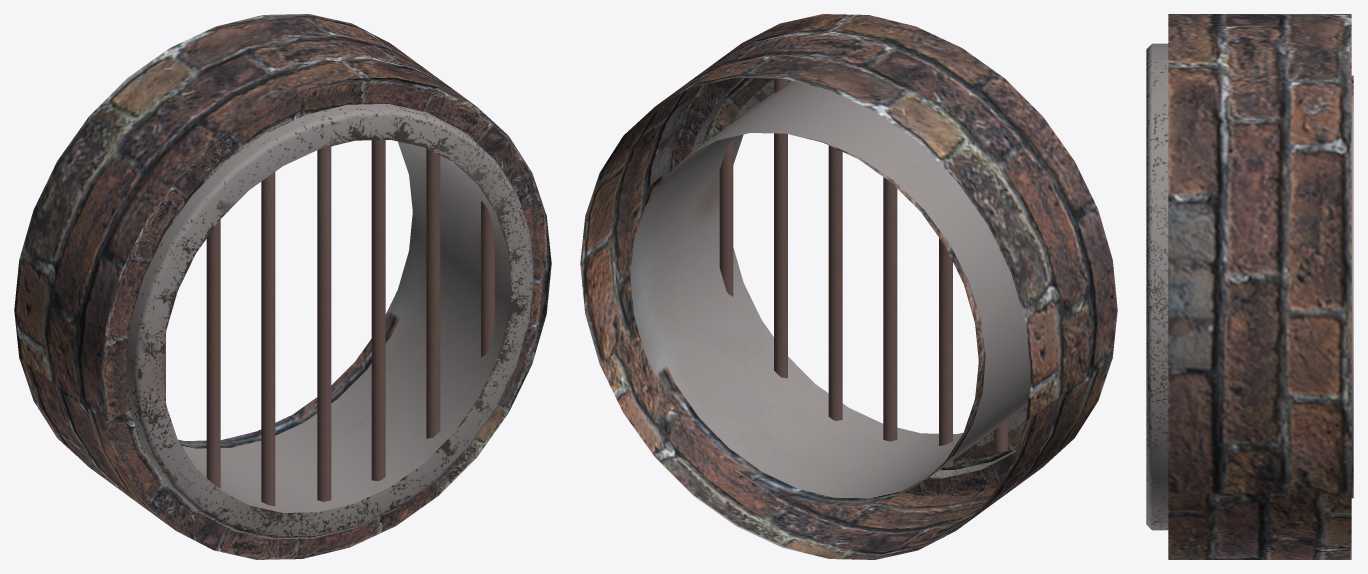
Rendered from pipe_bars 1.fbx.
3 views of the same model, side by side, from view 1: azimuth 30°, elevation 25°; view 2: azimuth 150°, elevation 25°; view 3: azimuth 270°, elevation 25° (orthographic). The views are drawn at different scales.
Parts seen in each view (by area): view 1: polySurface49; view 2: polySurface49; view 3: polySurface49.
Boxes of the visible parts, x1=… form: polySurface49: x1=14, y1=14, x2=551, y2=559; polySurface49: x1=580, y1=14, x2=1117, y2=559; polySurface49: x1=1146, y1=14, x2=1353, y2=559.
Size of the model in its own units: 69.72 by 69.34 by 26.36.
